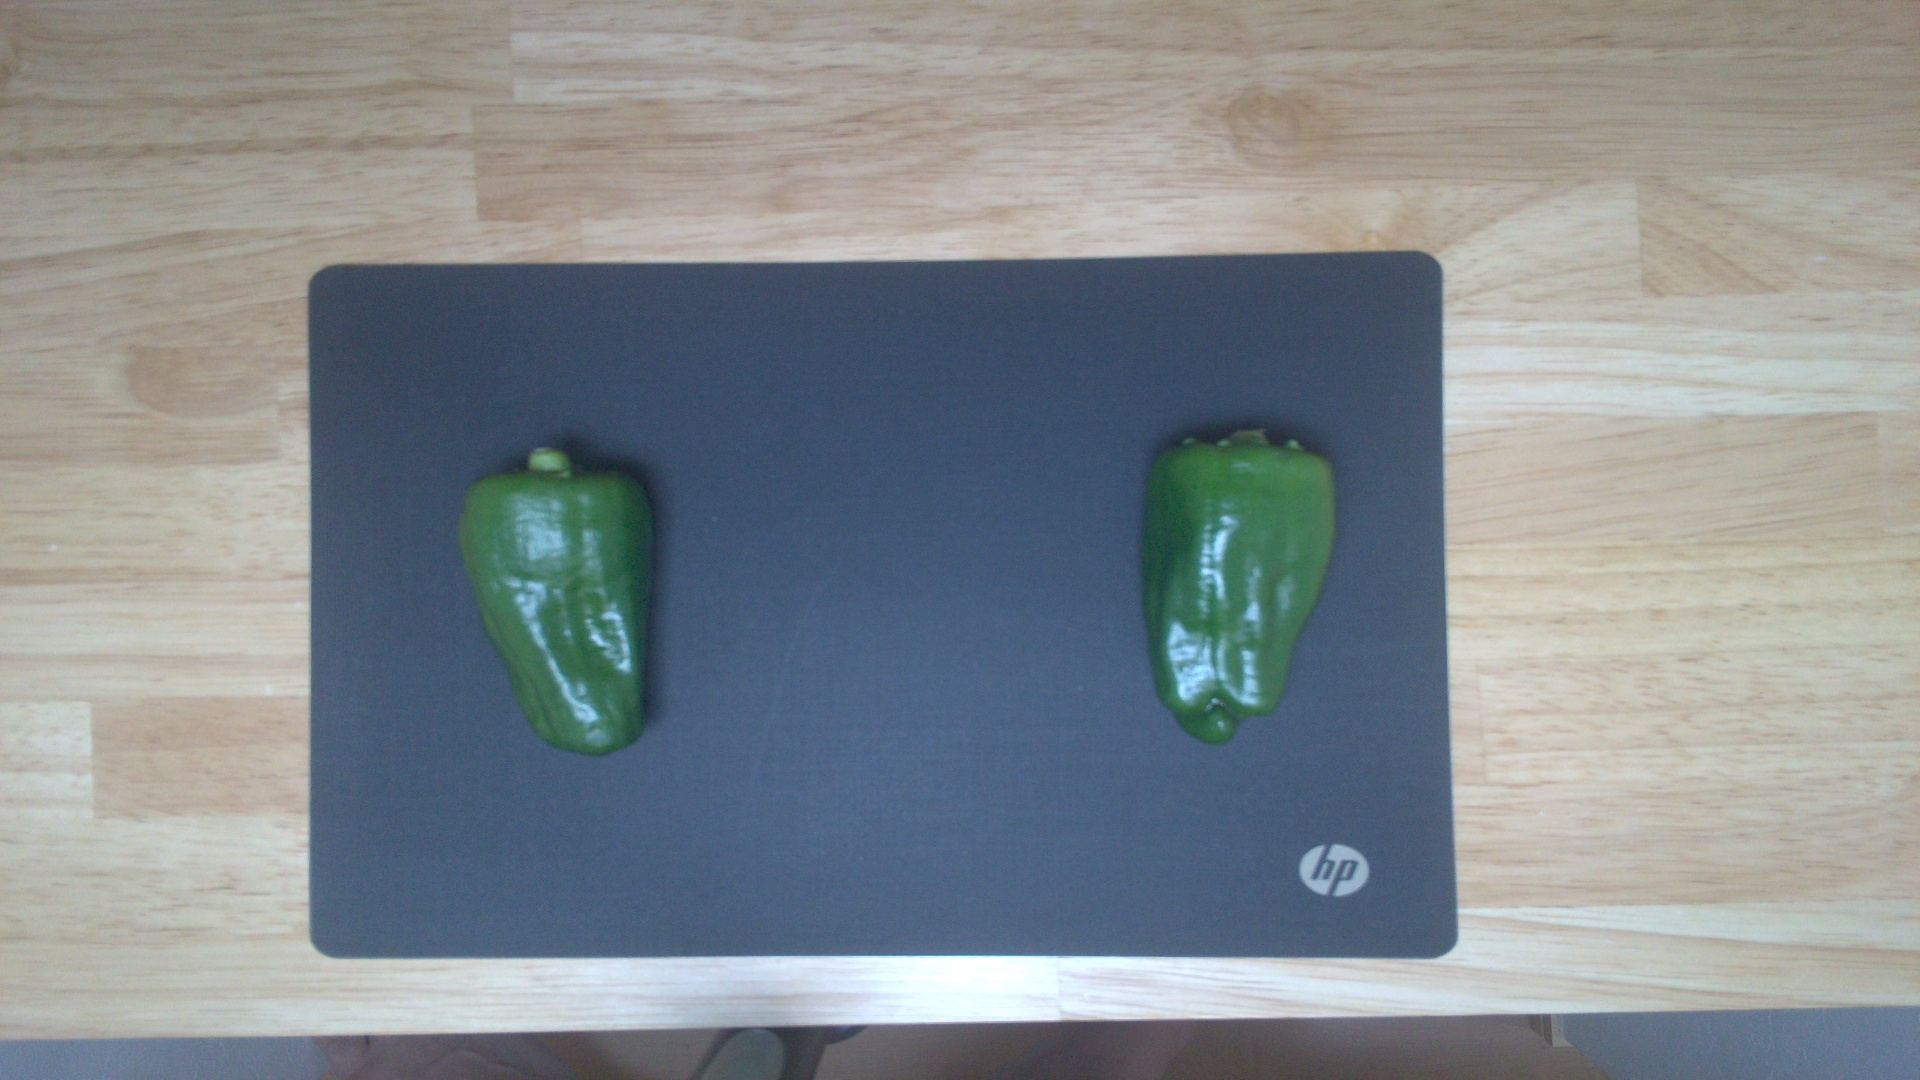Piman: (1135, 426, 1342, 750), (454, 444, 667, 757)
